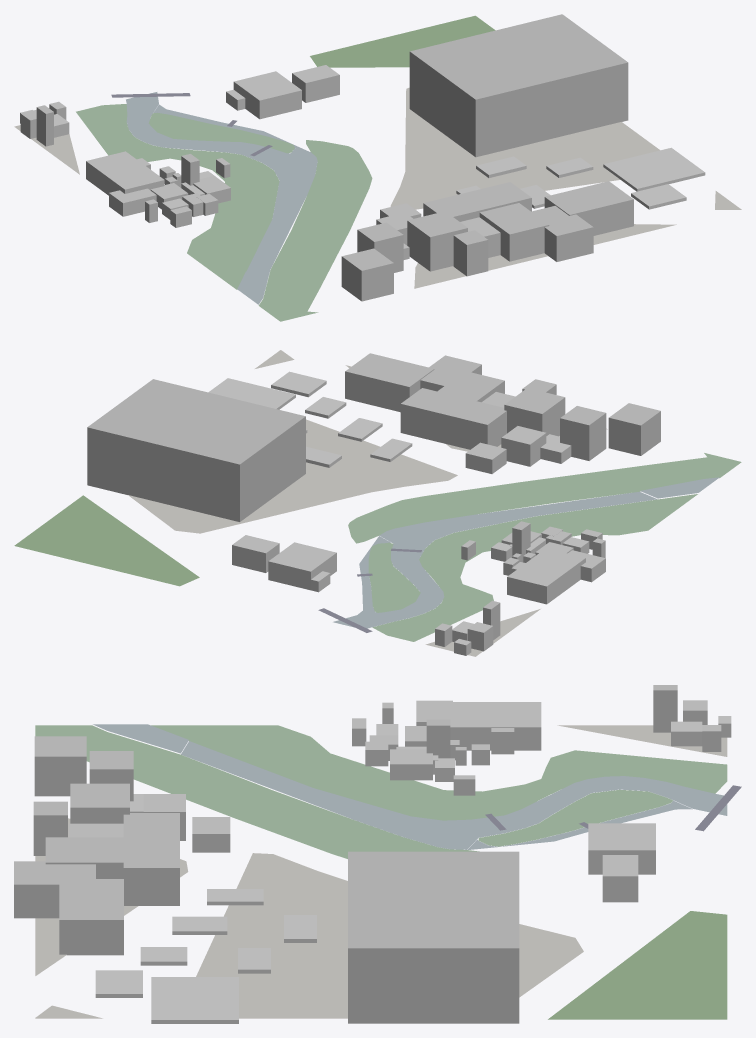
Rendered from 131_101_mid.glb.
The picture shows the model from 3 angles, top to bottom: view 1: azimuth 30°, elevation 25°; view 2: azimuth 150°, elevation 25°; view 3: azimuth 270°, elevation 25°; orthographic projection. The views are drawn at different scales.
Size of the model in its own units: 520 by 60.4 by 526.
